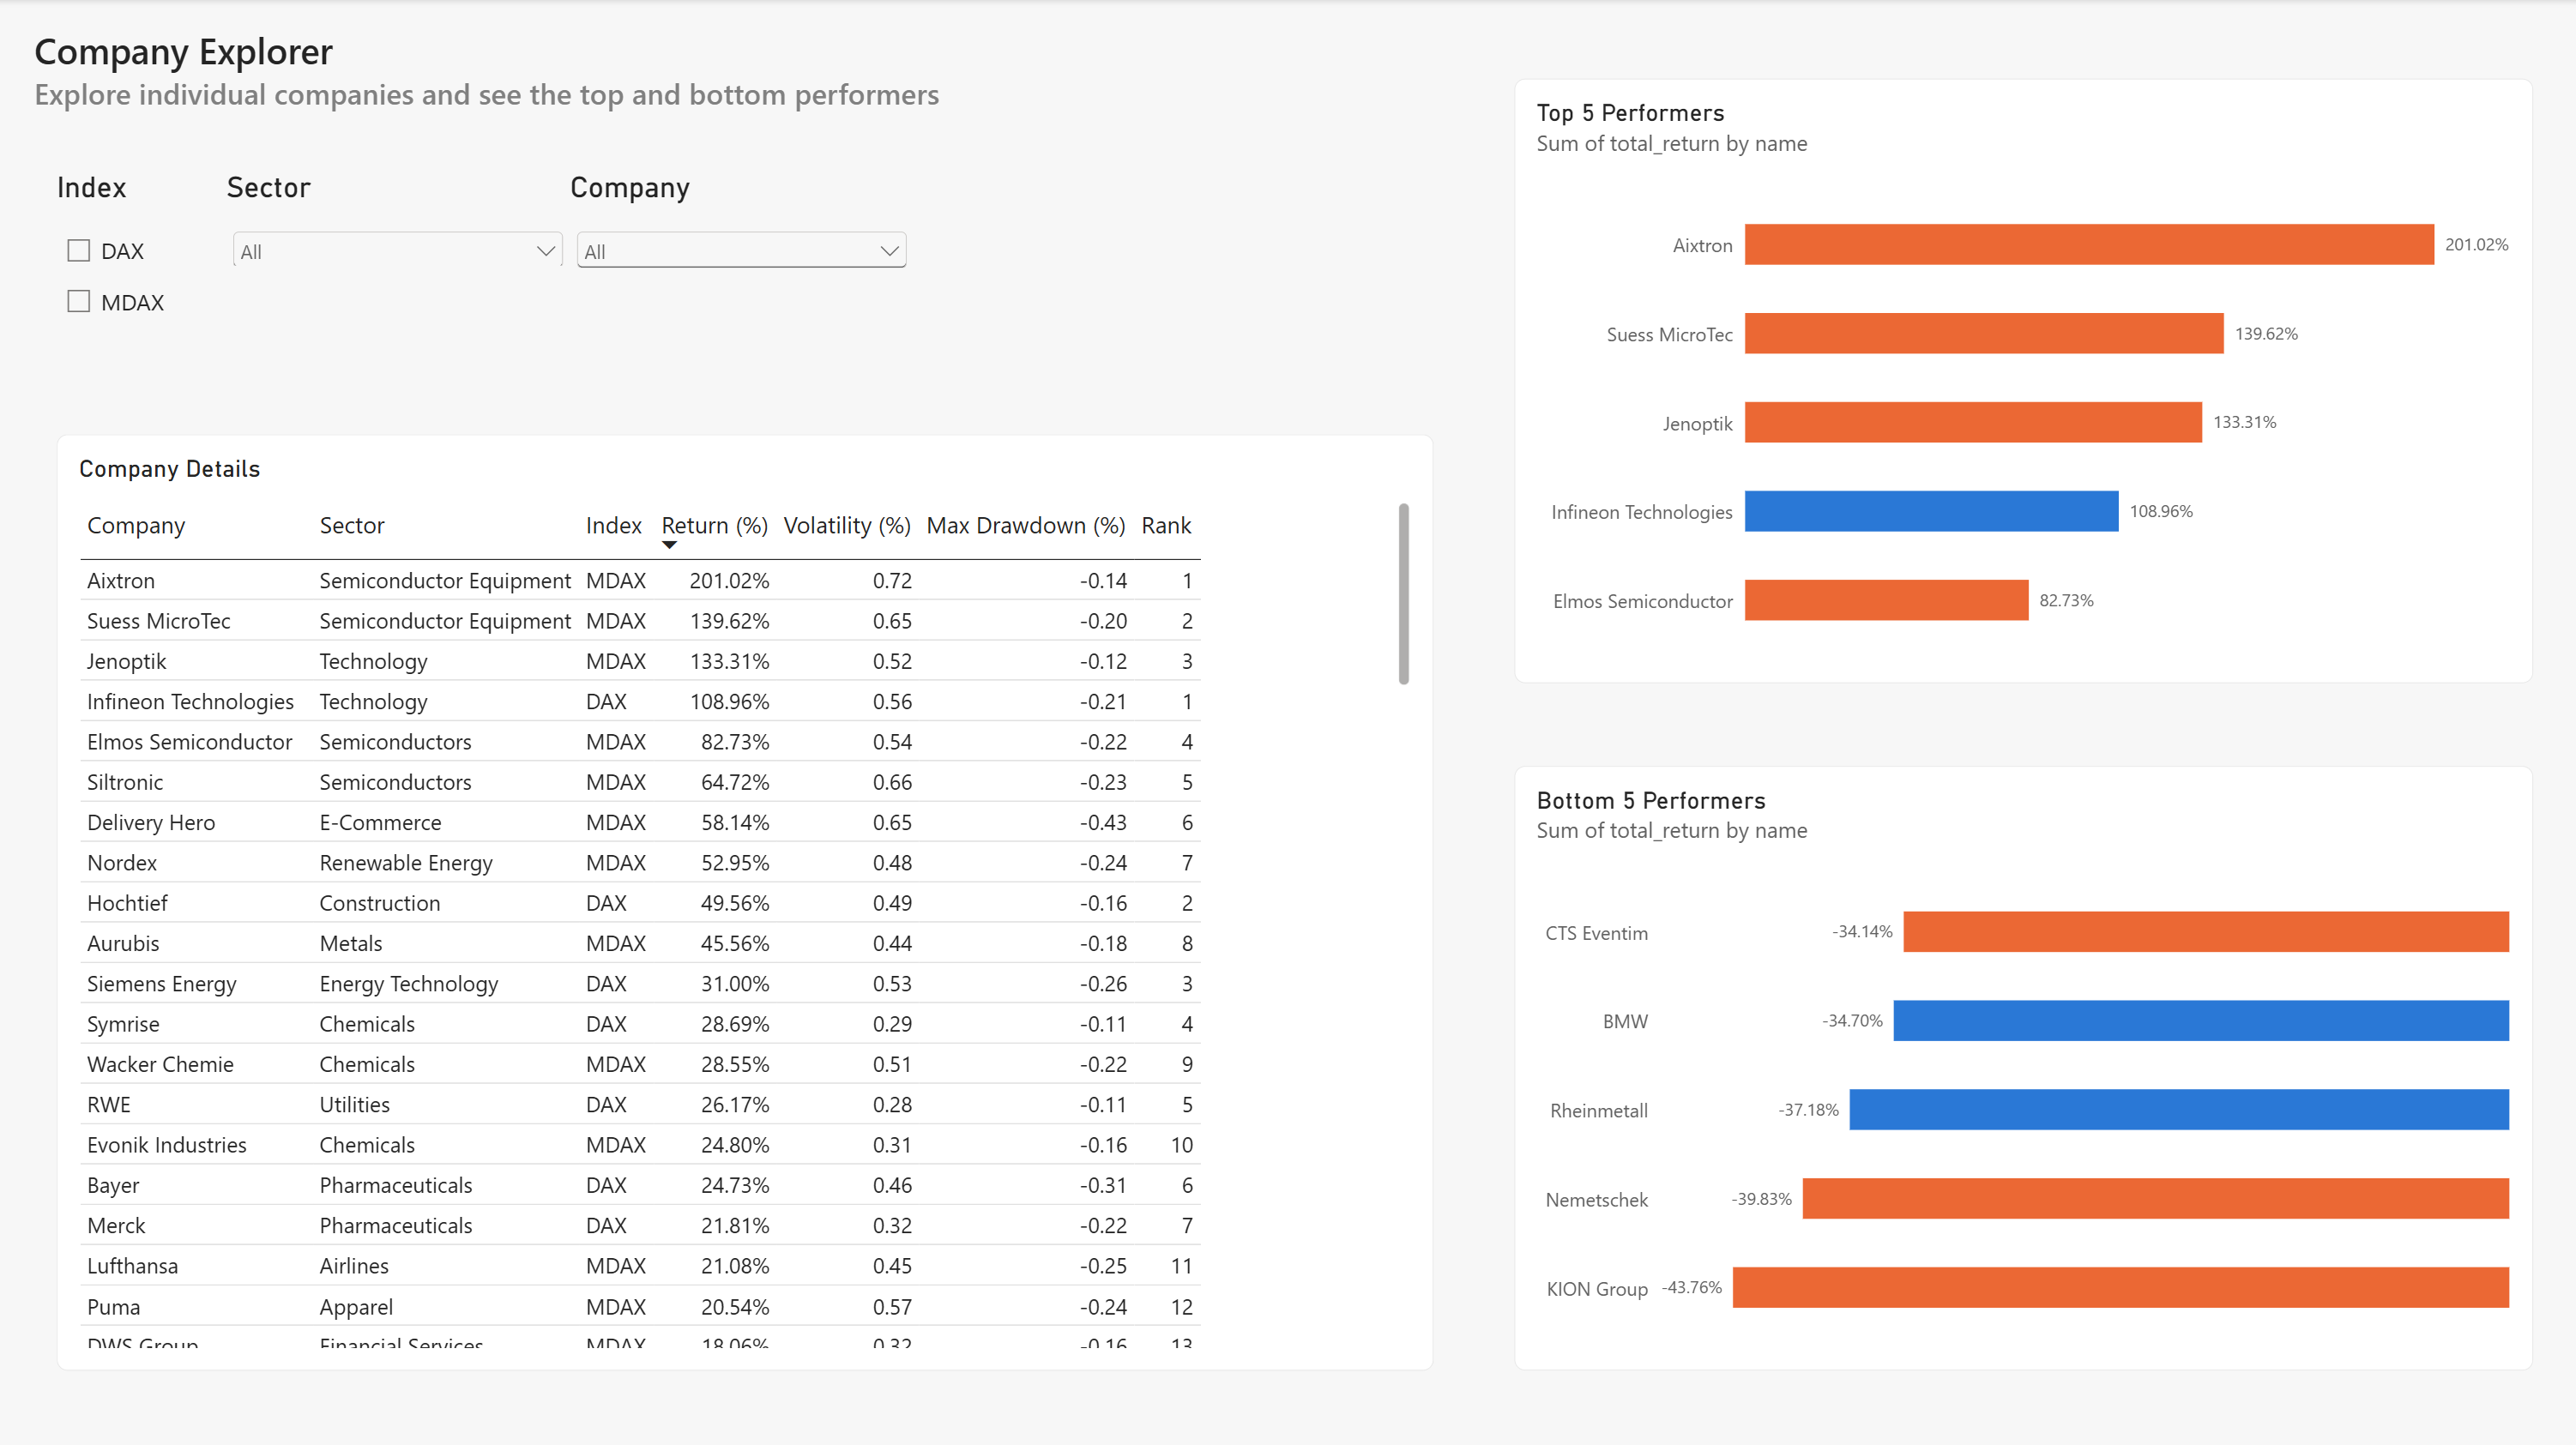

The page's visual inventory and layout, read from the dashboard file:
{"tool":"powerbi","page":{"name":"Company Explorer","canvas":[1920,1080],"ordinal":4},"visuals":[{"type":"textbox","box":[27,19.9,708,78],"z":0},{"type":"clusteredBarChart","title":"Top 5 Performers","fields":{"Category":["Dim_Company.name"],"Y":["Sum(Fact_CompanySummary.total_return)"]},"box":[1127.7,59.2,757.7,449.8],"z":1000},{"type":"clusteredBarChart","title":"Bottom 5 Performers","fields":{"Category":["Dim_Company.name"],"Y":["Sum(Fact_CompanySummary.total_return)"]},"box":[1127.7,570.5,757.7,449.8],"z":2000},{"type":"slicer","title":"Sector","fields":{"Values":["Dim_Company.sector"]},"box":[170.3,127.7,255.4,70.9],"z":3000},{"type":"slicer","title":"Index","fields":{"Values":["Dim_Company.index_group"]},"box":[43.5,127.3,126.2,128.4],"z":4000},{"type":"tableEx","title":"Company Details","fields":{"Values":["Dim_Company.name","Dim_Company.sector","Dim_Company.index_group","Fact_CompanySummary.total_return","Fact_CompanySummary.volatility_annualized","Fact_CompanySummary.max_drawdown","Fact_CompanySummary.rank_in_index"]},"box":[43.5,323.8,1023.9,696.7],"z":5000},{"type":"slicer","title":"Company","fields":{"Values":["Dim_Company.name"]},"box":[425.7,127.7,255.4,72.4],"z":5001}]}

Visuals, with their boxes in screenshot pixels (x1, y1, x2, y2), scaled from the page's 1920x1080 canvas onto the 2576x1445 screenshot:
textbox: x1=36 y1=27 x2=986 y2=131
"Top 5 Performers" clusteredBarChart: x1=1513 y1=79 x2=2530 y2=681
"Bottom 5 Performers" clusteredBarChart: x1=1513 y1=763 x2=2530 y2=1365
"Sector" slicer: x1=228 y1=171 x2=571 y2=266
"Index" slicer: x1=58 y1=171 x2=227 y2=342
"Company Details" tableEx: x1=58 y1=433 x2=1432 y2=1365
"Company" slicer: x1=571 y1=171 x2=914 y2=268
